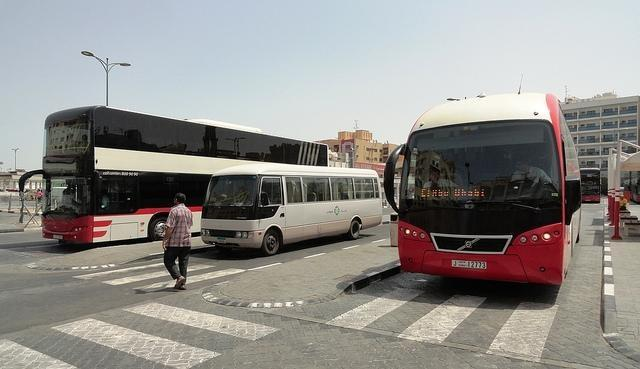bus: (18, 106, 332, 242), (380, 93, 587, 290), (200, 166, 386, 254), (580, 168, 602, 203)
